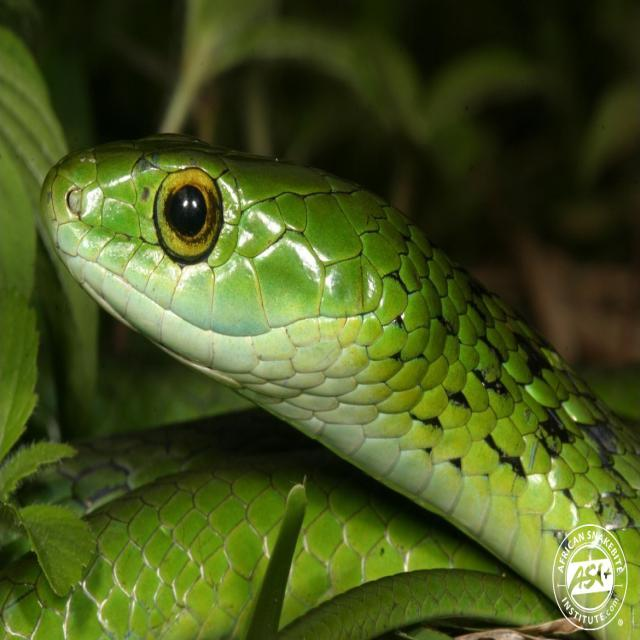Snake: (4, 109, 640, 640)
